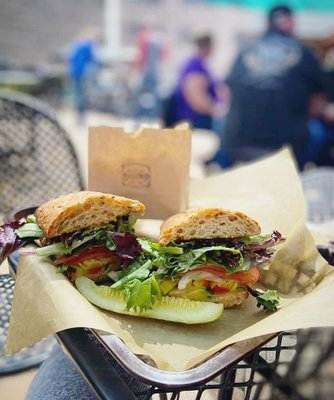pizza: (86, 125, 192, 221)
soup: (8, 191, 289, 324), (157, 207, 286, 309)
